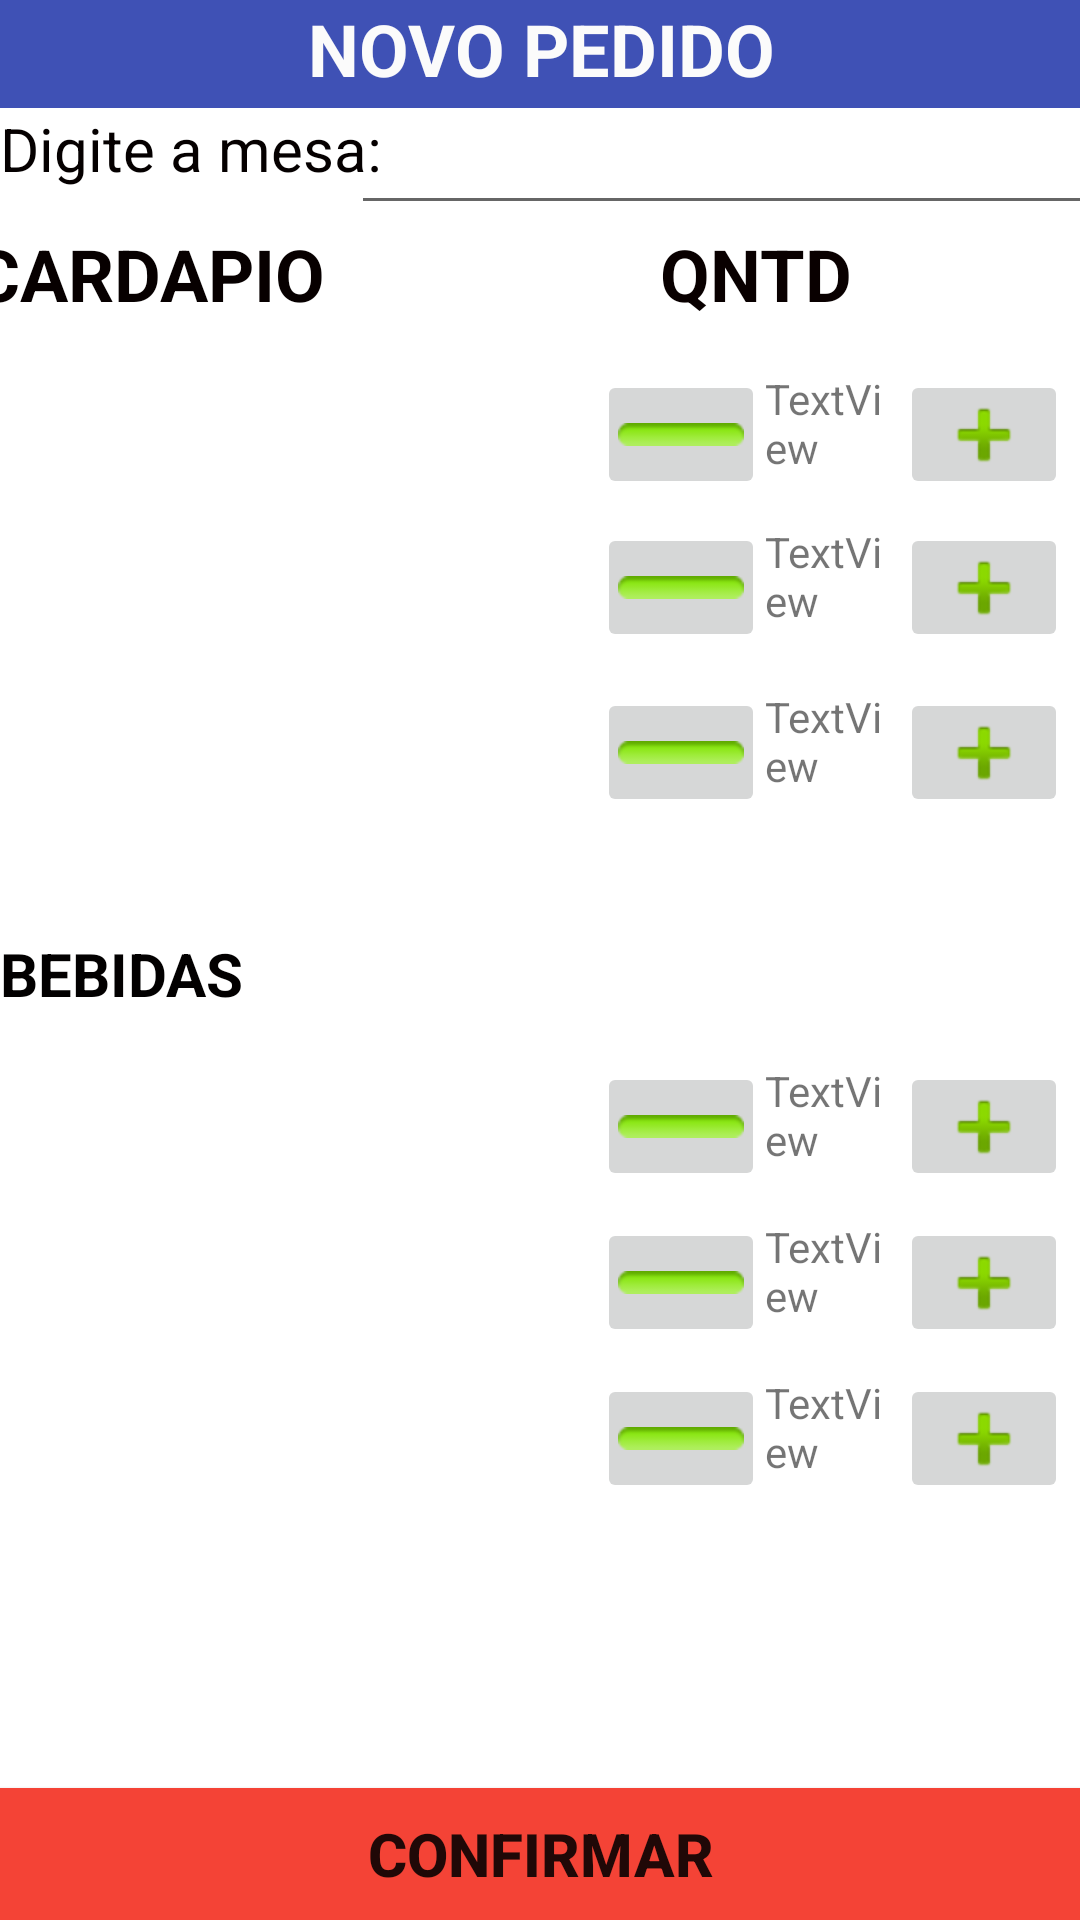

Screen size 1080 x 1920. Icon name, then its center in pixels as [x,y]:
add: [984,434], [984,587], [984,752], [984,1126], [984,1282], [984,1438]
